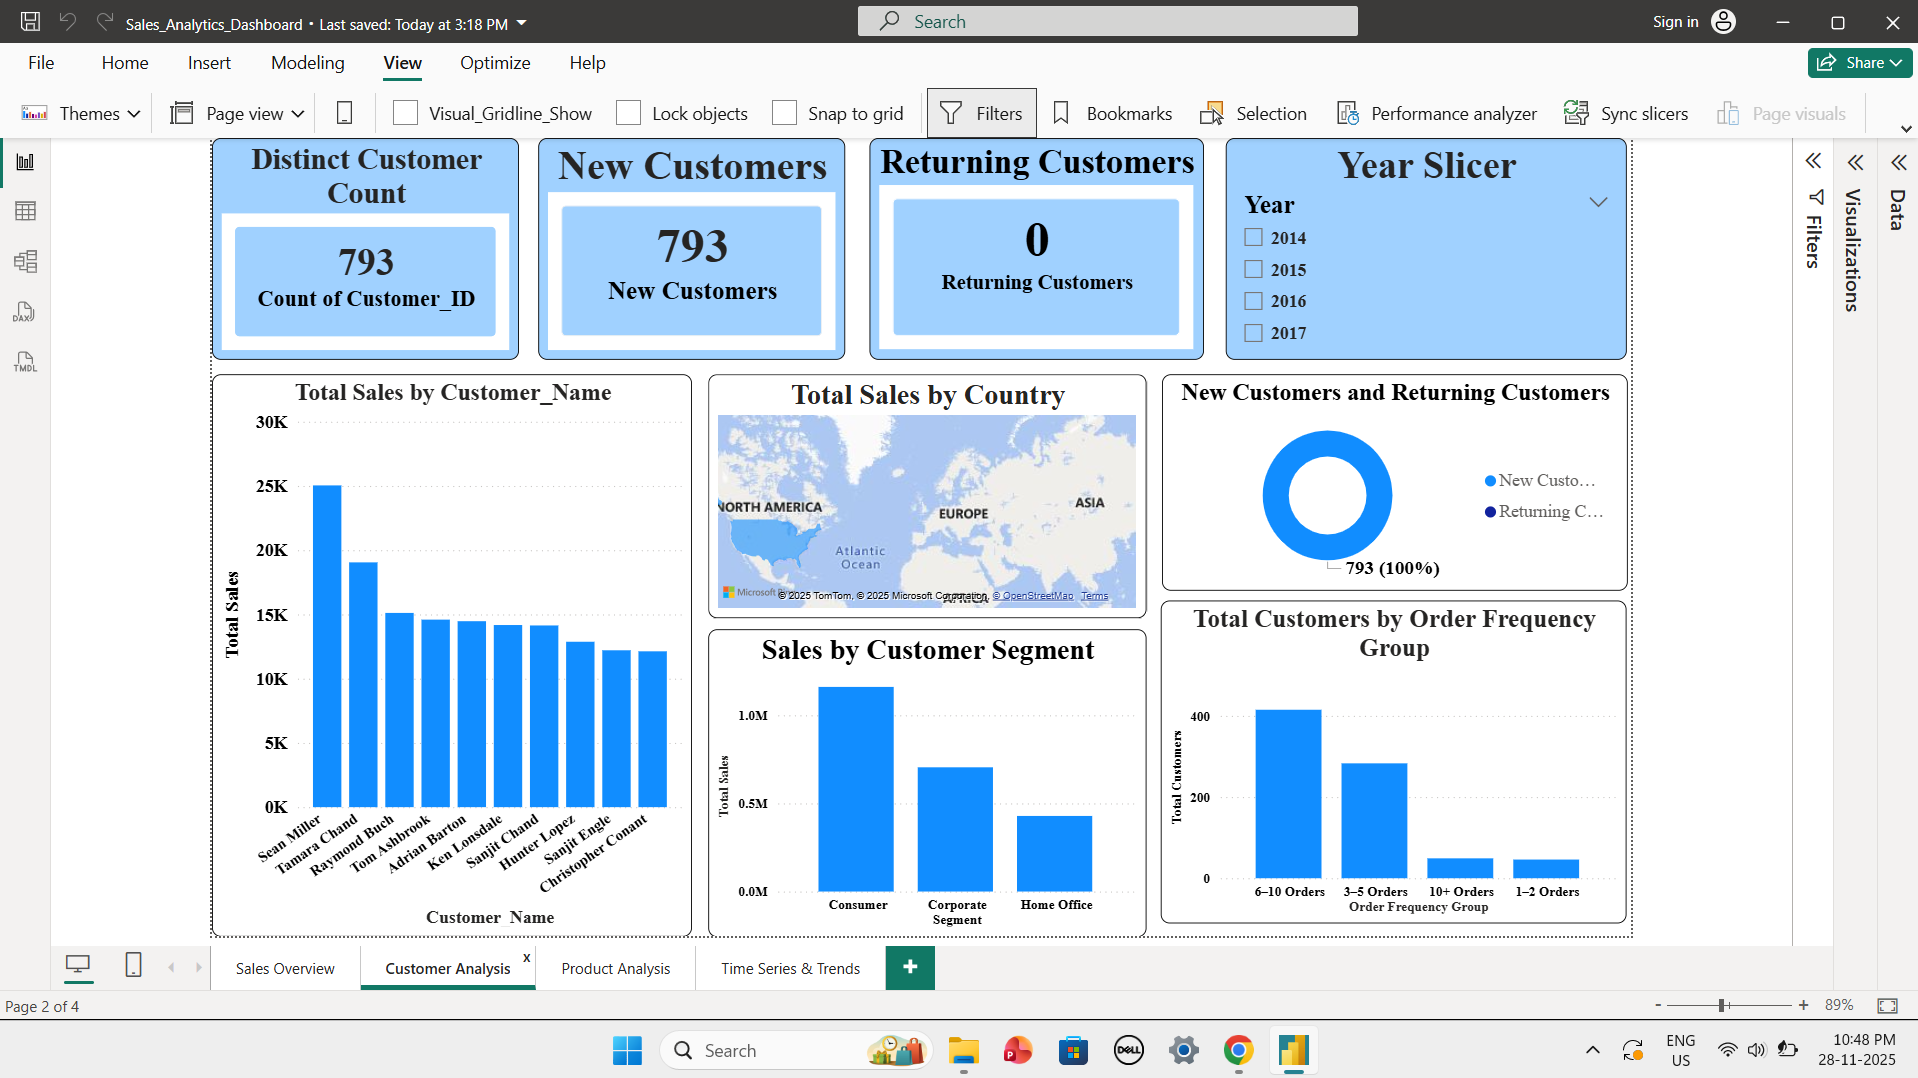

Layout of this report page (visuals, bound fields, positions):
{"tool":"powerbi","page":{"name":"Customer Analysis","canvas":[1280,720],"ordinal":1},"visuals":[{"type":"cardVisual","title":"Distinct Customer Count","fields":{"Data":["DimCustomer.Customer_ID"]},"box":[0,0,277.2,200.3],"z":0},{"type":"cardVisual","title":"New Customers","fields":{"Data":["_Measures.New Customers"]},"box":[293.7,0,277.2,200.3],"z":1000},{"type":"cardVisual","title":"Returning Customers","fields":{"Data":["_Measures.Returning Customers"]},"box":[592.5,0,301.2,200],"z":2000},{"type":"donutChart","fields":{"Y":["_Measures.New Customers","_Measures.Returning Customers"]},"box":[856.2,212.5,420,195],"z":3000},{"type":"clusteredColumnChart","fields":{"Category":["DimCustomer.Customer_Name"],"Y":["_Measures.Total Sales"]},"box":[0,212.9,432.9,507.1],"z":4000},{"type":"filledMap","fields":{"Category":["DimRegion.Country"]},"box":[447.5,212.5,395,220],"z":5000},{"type":"clusteredColumnChart","fields":{"Y":["_Measures.Total Customers"],"Category":["DimCustomer.Order Frequency Group"]},"box":[855.7,417.1,420,291.4],"z":6000},{"type":"clusteredColumnChart","title":"Sales by Customer Segment","fields":{"Category":["DimCustomer.Segment"],"Y":["_Measures.Total Sales"]},"box":[447.5,442.5,395,277.5],"z":7000},{"type":"slicer","title":"Year  Slicer","fields":{"Values":["DimDate.Year"]},"box":[914.3,0,361.4,200],"z":8000}]}

Visuals, with their boxes on the page's 1280x720 design canvas (x1, y1, x2, y2). These are canvas units, not pixel positions in the 1918x1078 screenshot, which may show the page scaled, cropped or inside an application window:
"Distinct Customer Count" cardVisual: 0 0 277 200
"New Customers" cardVisual: 294 0 571 200
"Returning Customers" cardVisual: 592 0 894 200
donutChart - _Measures.New Customers x _Measures.Returning Customers: 856 212 1276 408
clusteredColumnChart - DimCustomer.Customer_Name x _Measures.Total Sales: 0 213 433 720
filledMap - DimRegion.Country: 448 212 842 432
clusteredColumnChart - _Measures.Total Customers x DimCustomer.Order Frequency Group: 856 417 1276 708
"Sales by Customer Segment" clusteredColumnChart: 448 442 842 720
"Year  Slicer" slicer: 914 0 1276 200
